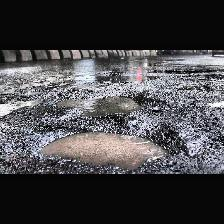pothole: (34, 125, 184, 171), (54, 90, 152, 118)
